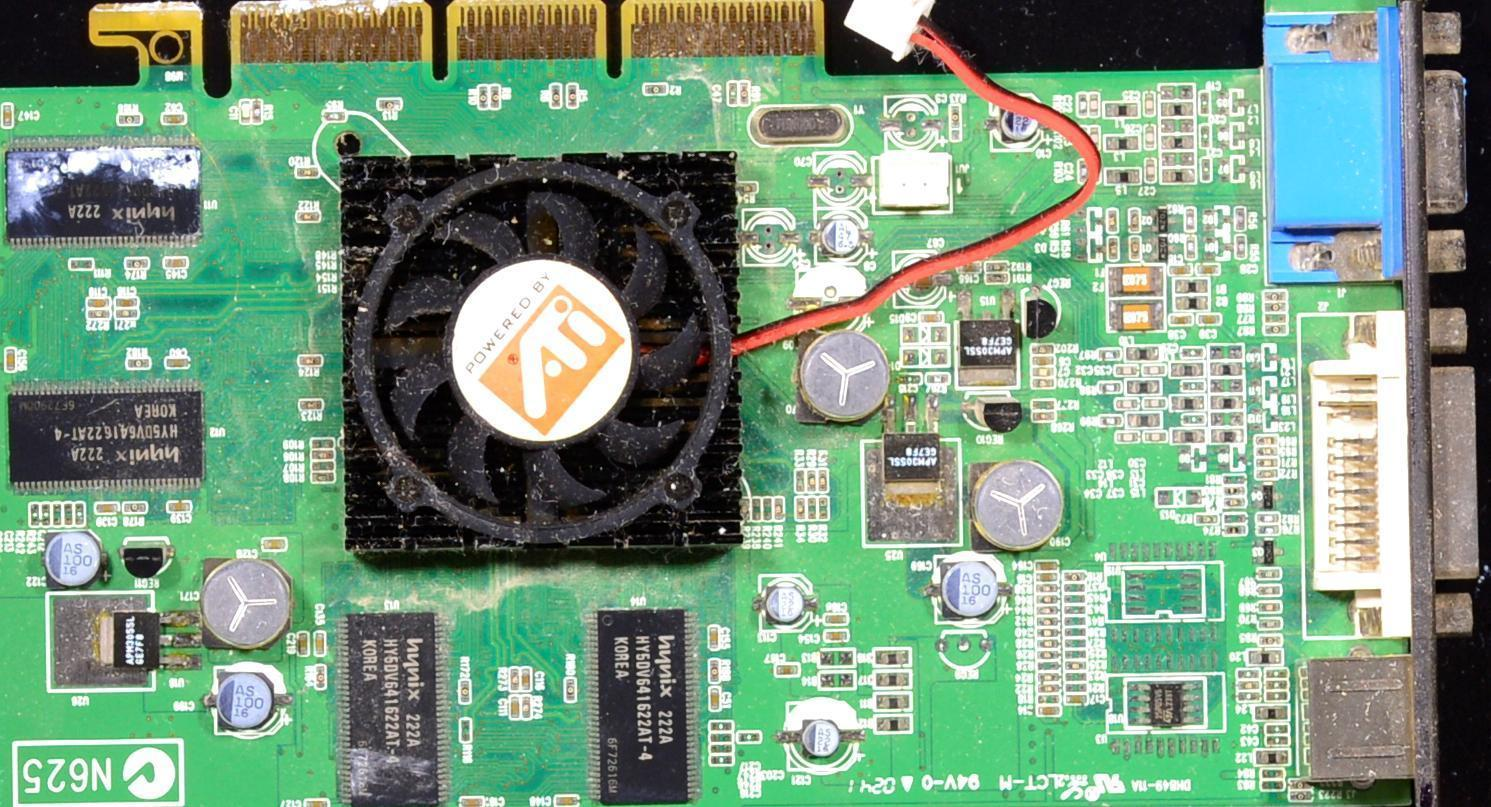Capacitor: (1114, 397, 1140, 411), (776, 663, 800, 678), (1141, 429, 1166, 443), (1167, 263, 1193, 276), (900, 371, 924, 385), (1143, 363, 1168, 376), (1197, 263, 1224, 275), (1198, 91, 1211, 115), (1180, 379, 1206, 391), (1115, 430, 1139, 443), (553, 794, 579, 806), (1142, 398, 1167, 410), (1170, 313, 1193, 326), (239, 100, 251, 124), (707, 627, 720, 649), (1032, 355, 1055, 367), (825, 614, 848, 626), (1089, 93, 1100, 118), (162, 114, 187, 125), (113, 296, 138, 307), (1182, 415, 1207, 426), (1036, 561, 1061, 572), (316, 631, 327, 656), (522, 667, 533, 692), (461, 796, 486, 807), (1144, 93, 1155, 117), (1089, 126, 1100, 150), (1265, 301, 1287, 313), (918, 313, 942, 324), (1198, 313, 1220, 325), (1266, 737, 1290, 748), (1145, 126, 1156, 149), (263, 539, 286, 550), (825, 631, 848, 642), (5, 350, 17, 371), (1201, 124, 1211, 149), (1263, 314, 1288, 324), (1037, 706, 1062, 716), (1263, 324, 1290, 333), (96, 504, 118, 515), (2, 104, 12, 128), (1146, 158, 1156, 182), (1181, 347, 1205, 357), (710, 722, 734, 732), (736, 732, 760, 742), (305, 796, 329, 806), (509, 697, 520, 718), (298, 632, 308, 655), (711, 756, 734, 766), (729, 81, 739, 104), (30, 505, 40, 527), (1264, 291, 1288, 300), (1266, 725, 1290, 734), (1117, 365, 1138, 375), (169, 502, 190, 512), (1202, 158, 1211, 181), (167, 357, 190, 366), (1032, 368, 1055, 377), (89, 296, 109, 306), (1038, 573, 1060, 582), (710, 687, 719, 709), (1066, 694, 1088, 703), (42, 504, 50, 526), (165, 260, 186, 268), (77, 503, 84, 524)
Connector: (1298, 313, 1490, 641), (1256, 0, 1474, 281), (1299, 657, 1432, 777)
IC: (586, 609, 702, 804), (335, 614, 449, 806), (7, 141, 203, 247), (8, 385, 205, 487), (48, 592, 202, 689), (861, 425, 962, 546), (954, 287, 1018, 387), (1123, 568, 1205, 618), (1125, 682, 1205, 730)
Resistor: (548, 84, 563, 108), (460, 718, 473, 745), (926, 372, 951, 386), (476, 85, 489, 111), (488, 86, 502, 110), (1098, 349, 1123, 362), (70, 259, 94, 272), (1098, 414, 1124, 426), (1257, 568, 1283, 580), (1129, 236, 1141, 261), (1107, 237, 1119, 262), (310, 437, 335, 449), (1222, 525, 1247, 537), (1234, 235, 1247, 258), (708, 661, 721, 684), (325, 109, 346, 123), (1259, 601, 1283, 613), (459, 680, 471, 704), (1035, 673, 1061, 684), (709, 742, 735, 753), (1196, 514, 1219, 526), (1128, 210, 1139, 235), (127, 359, 152, 370), (1098, 383, 1123, 394), (1258, 618, 1283, 629), (1258, 635, 1283, 646), (740, 81, 751, 106), (1289, 790, 1316, 800), (252, 99, 263, 123), (1031, 344, 1055, 355), (1224, 512, 1248, 523), (1257, 512, 1279, 524), (710, 732, 734, 743), (1261, 781, 1285, 792), (644, 82, 668, 93), (119, 113, 142, 124), (1235, 207, 1246, 230), (1107, 210, 1118, 233), (1186, 236, 1197, 259), (522, 695, 532, 720), (89, 309, 111, 320), (313, 461, 335, 472), (807, 498, 818, 520), (566, 679, 577, 701), (116, 309, 140, 319), (1254, 435, 1278, 445), (1222, 473, 1246, 483), (1036, 605, 1060, 615), (1260, 769, 1284, 779), (1288, 779, 1312, 789), (298, 211, 319, 222), (313, 472, 334, 483), (1066, 661, 1087, 672), (1077, 93, 1087, 116), (126, 258, 149, 268), (1032, 400, 1055, 410), (1032, 412, 1055, 422), (312, 450, 335, 460), (740, 498, 750, 521), (1258, 585, 1281, 595), (1063, 615, 1086, 625), (1037, 617, 1060, 627), (1037, 640, 1060, 650), (1037, 650, 1060, 660), (568, 84, 578, 107), (298, 167, 318, 178), (1185, 208, 1195, 230), (300, 357, 322, 367), (986, 262, 1010, 271), (297, 400, 321, 409), (1222, 486, 1246, 495), (64, 502, 73, 526), (1037, 662, 1061, 671), (1256, 446, 1277, 456), (1065, 582, 1086, 592), (1032, 378, 1055, 387), (124, 504, 147, 513), (1258, 526, 1281, 535), (511, 669, 520, 692), (1065, 684, 1088, 693), (987, 274, 1007, 284), (1224, 496, 1244, 506), (315, 667, 325, 687), (1257, 469, 1279, 478), (1063, 572, 1085, 581), (1036, 585, 1058, 594), (1064, 650, 1086, 659), (1066, 673, 1088, 682), (1039, 685, 1061, 694), (1037, 694, 1059, 703), (1036, 596, 1060, 604), (1257, 458, 1278, 467), (820, 498, 829, 519), (753, 498, 762, 519), (1065, 628, 1086, 637), (377, 101, 399, 109), (776, 498, 784, 520), (1038, 630, 1060, 638), (797, 471, 805, 492), (797, 499, 805, 520), (53, 503, 61, 524), (1064, 596, 1085, 604), (819, 470, 827, 490), (808, 470, 816, 490), (1065, 639, 1085, 647), (764, 499, 771, 520), (1065, 606, 1086, 613)
Transistor: (1142, 206, 1175, 235), (1202, 234, 1235, 261), (1142, 237, 1175, 263), (1204, 207, 1235, 234), (1252, 540, 1285, 565), (1251, 485, 1284, 509)
